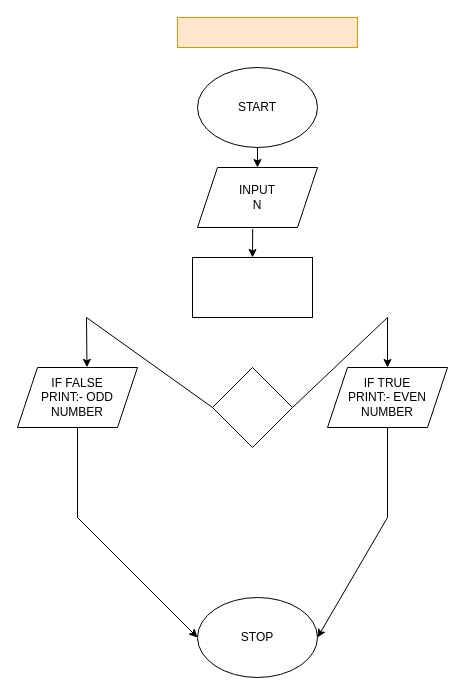
Image size: 465x695. Some labels were removed from this diagram. Here are the shapes that lost their labels. From the top down, the centre of each, then its label:
At point 267,32: "DIGIT PRINTING PROGRAM".
At point 252,287: "A=N; C=0; D=0;".
At point 252,407: "WHILE A>0".
